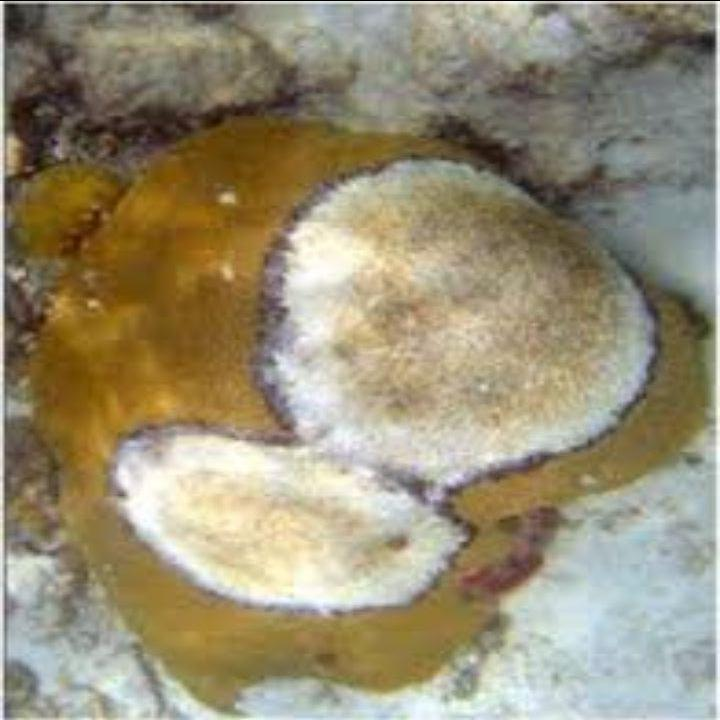Band disease: (102, 147, 674, 627)
